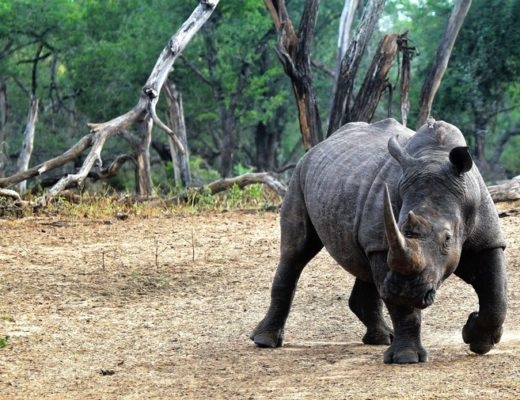rhino: (252, 119, 509, 363)
